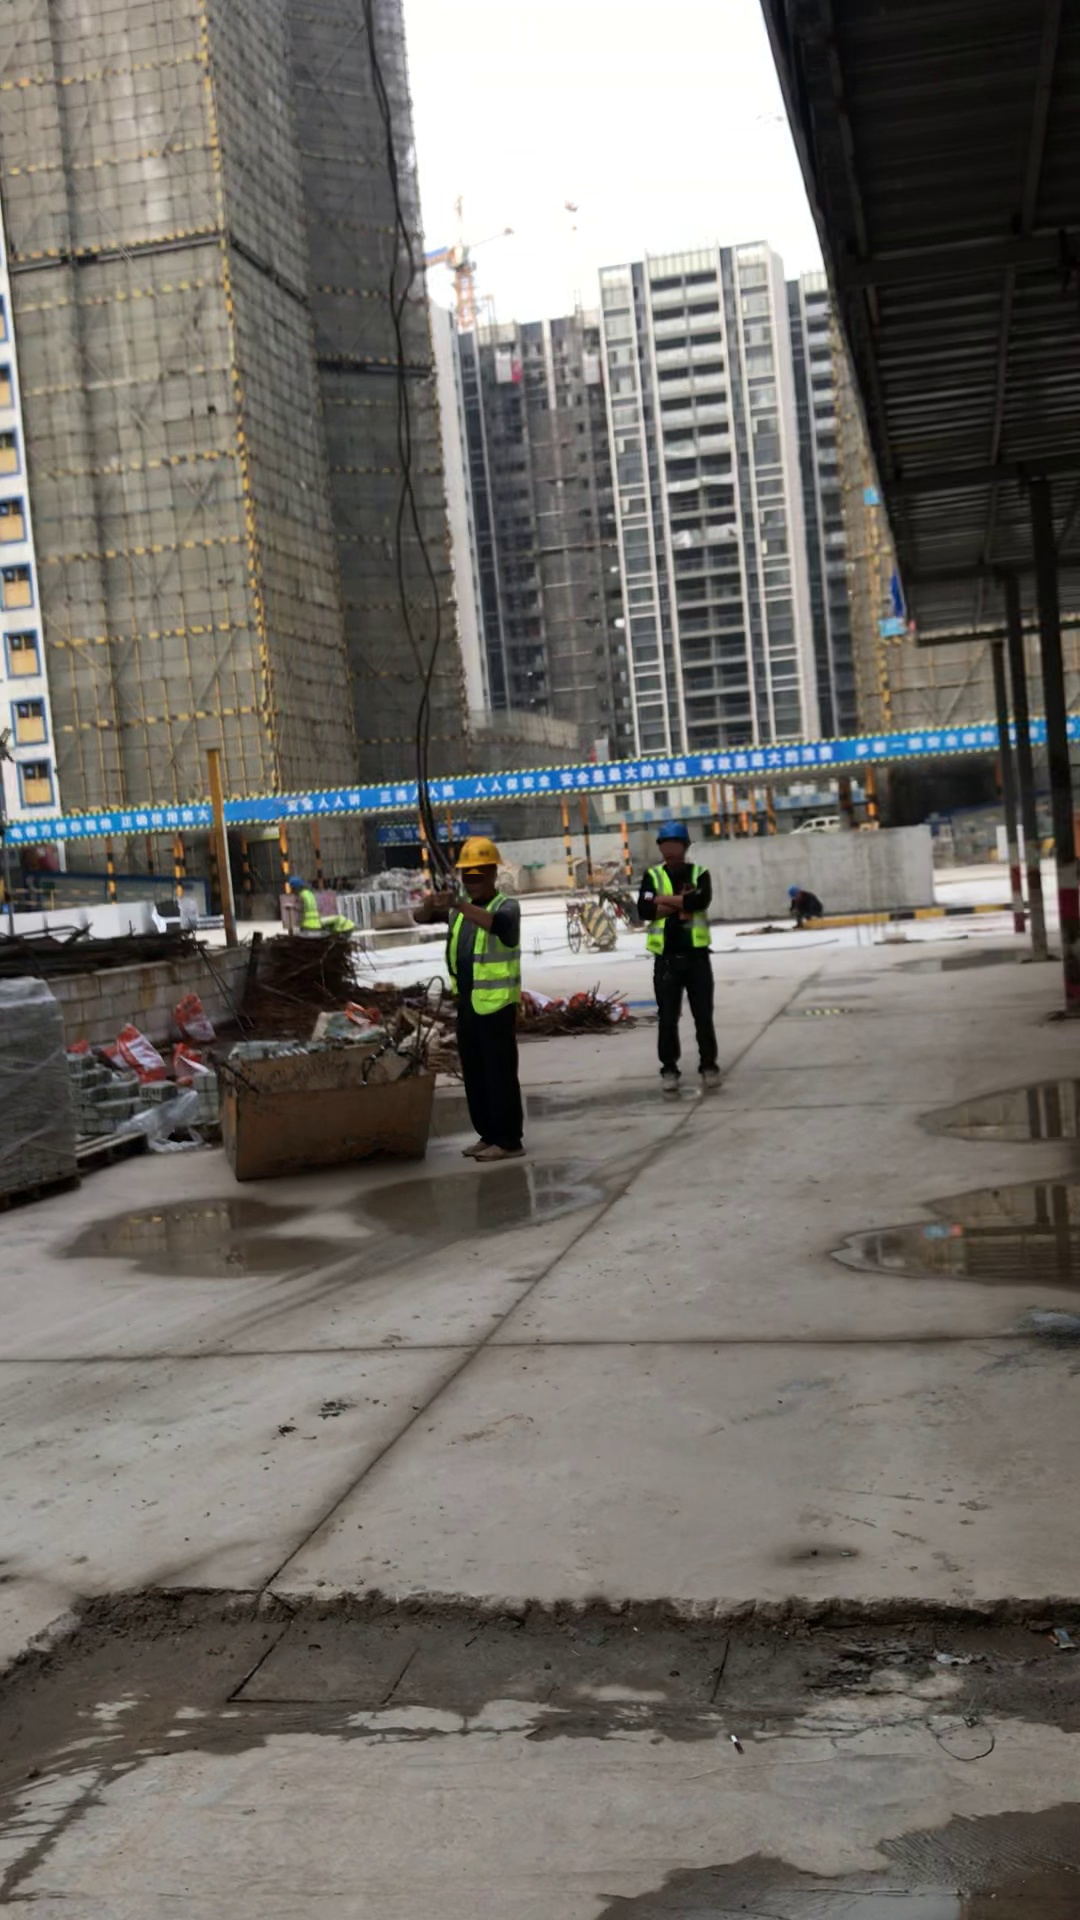helmet: (451, 834, 508, 865), (657, 820, 693, 841), (288, 875, 304, 885), (788, 885, 801, 896)
hopper: (216, 1009, 441, 1203)
person: (416, 831, 555, 1168), (600, 810, 741, 1098), (286, 874, 327, 931), (784, 884, 829, 930)
slogan: (6, 722, 1080, 844)
vest: (449, 899, 521, 1008), (639, 868, 712, 952), (298, 892, 321, 927), (327, 917, 357, 931)
